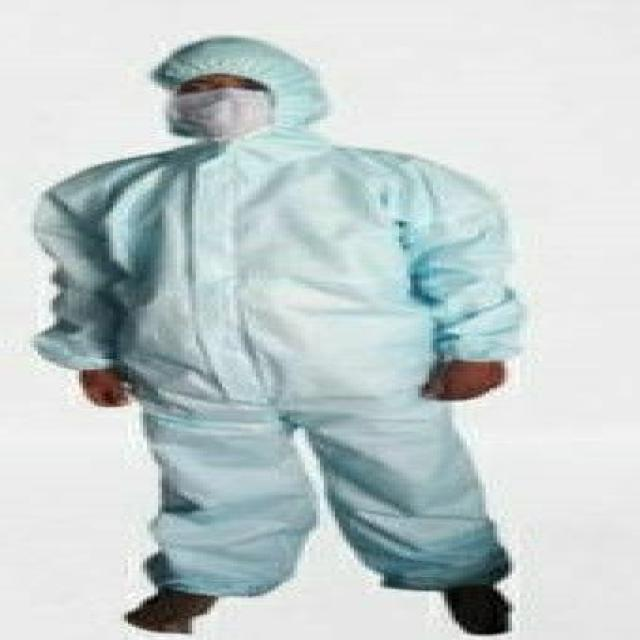Coverall: (11, 17, 575, 640)
Mask: (173, 85, 313, 151)
